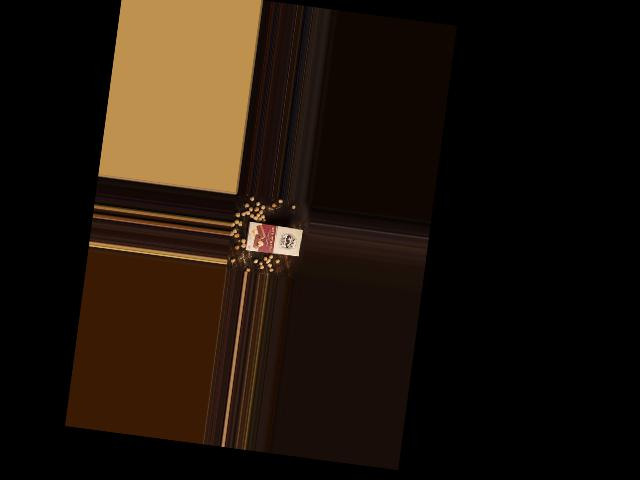chocolate: (243, 218, 304, 258)
